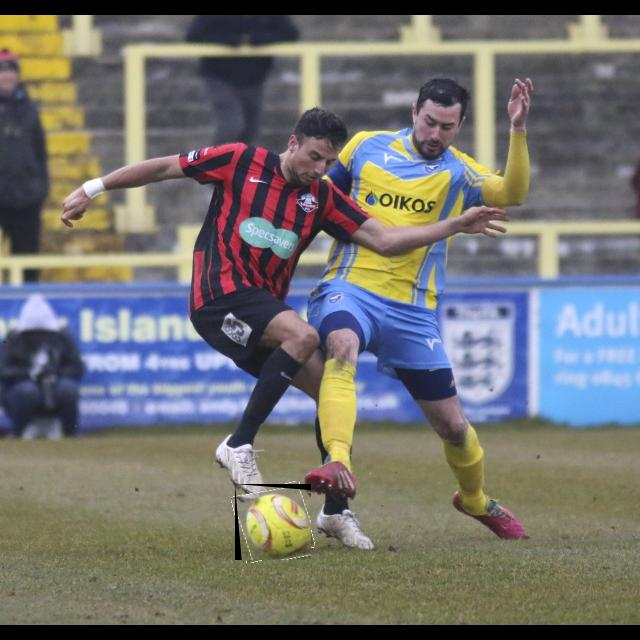Football: (235, 484, 311, 560)
